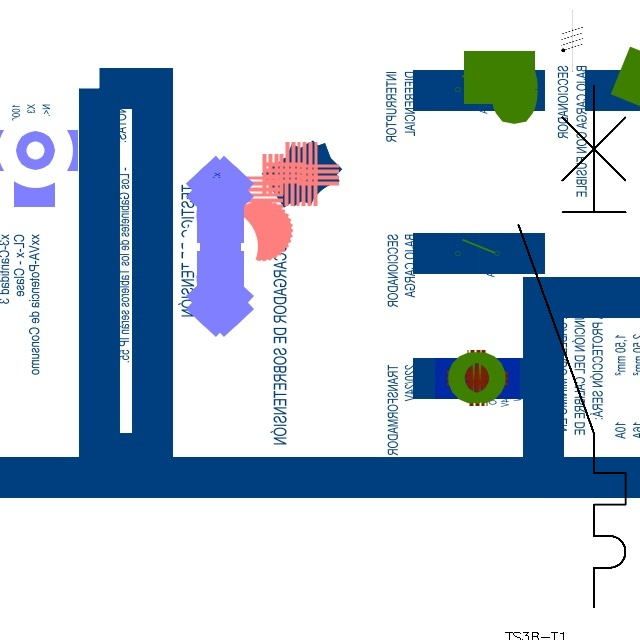interruptor_termomagnetico: (505, 72, 639, 621)
